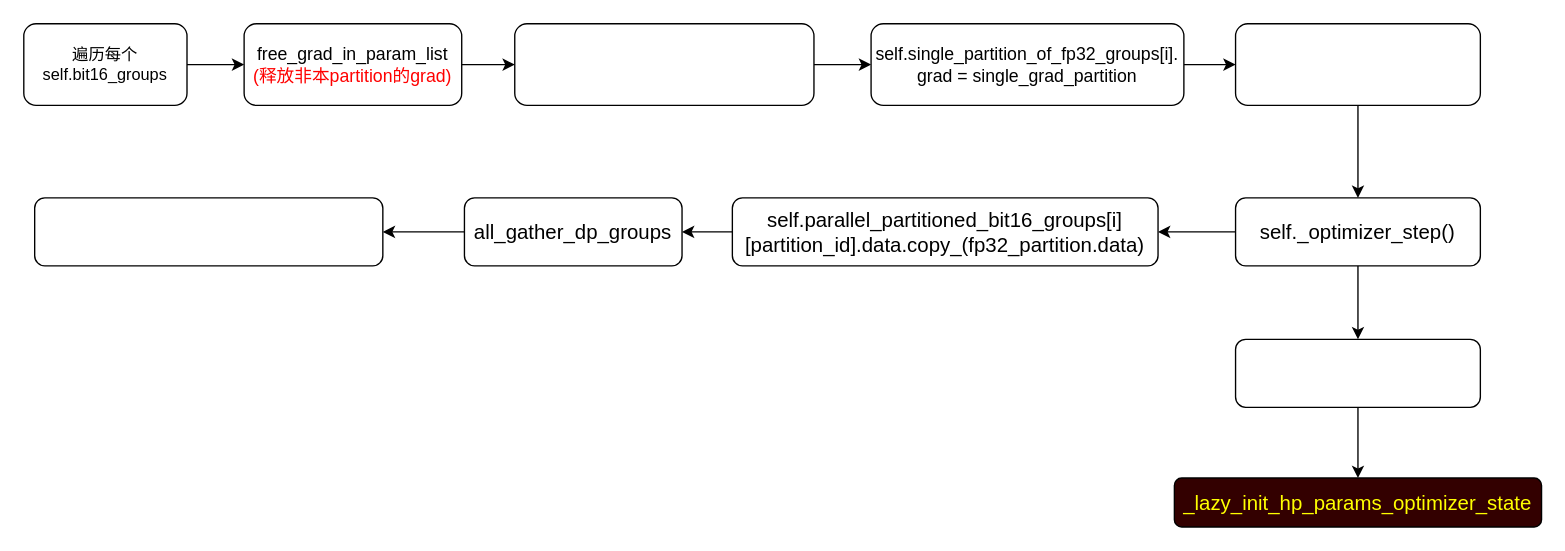
The diagram is 1565 pixels wide and 551 high, and some of its shapes have lost their labels. The centre of each missing label's shape, as x and y in pixels:
self._update_model_bit16_weights[i]: the point at 208,231
self.averaged_gradients[i] (对本区内的reduce后的grad 进行flatten，并且数据类型转换到高精度): the point at 663,63
self.free_grad_in_param_list: the point at 1357,63
self.optimizer.step(): the point at 1357,372
